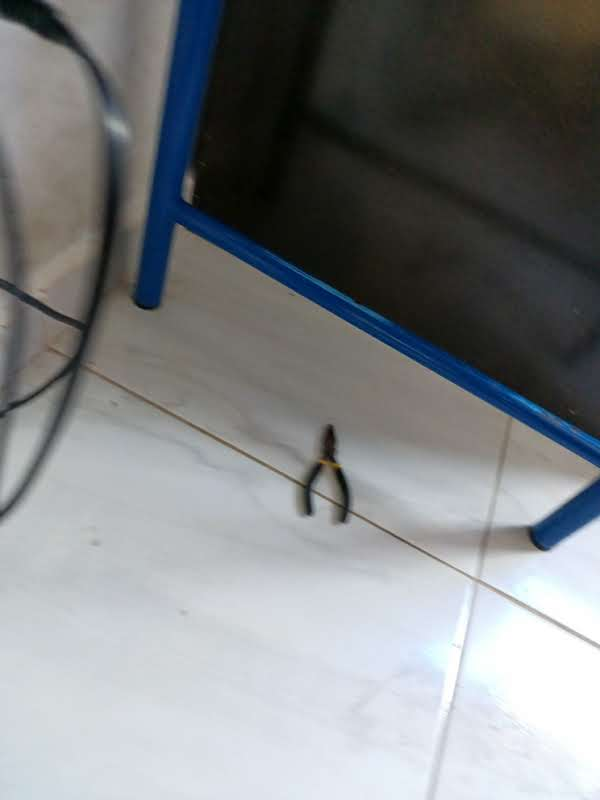Pinzas: (295, 425, 356, 522)
